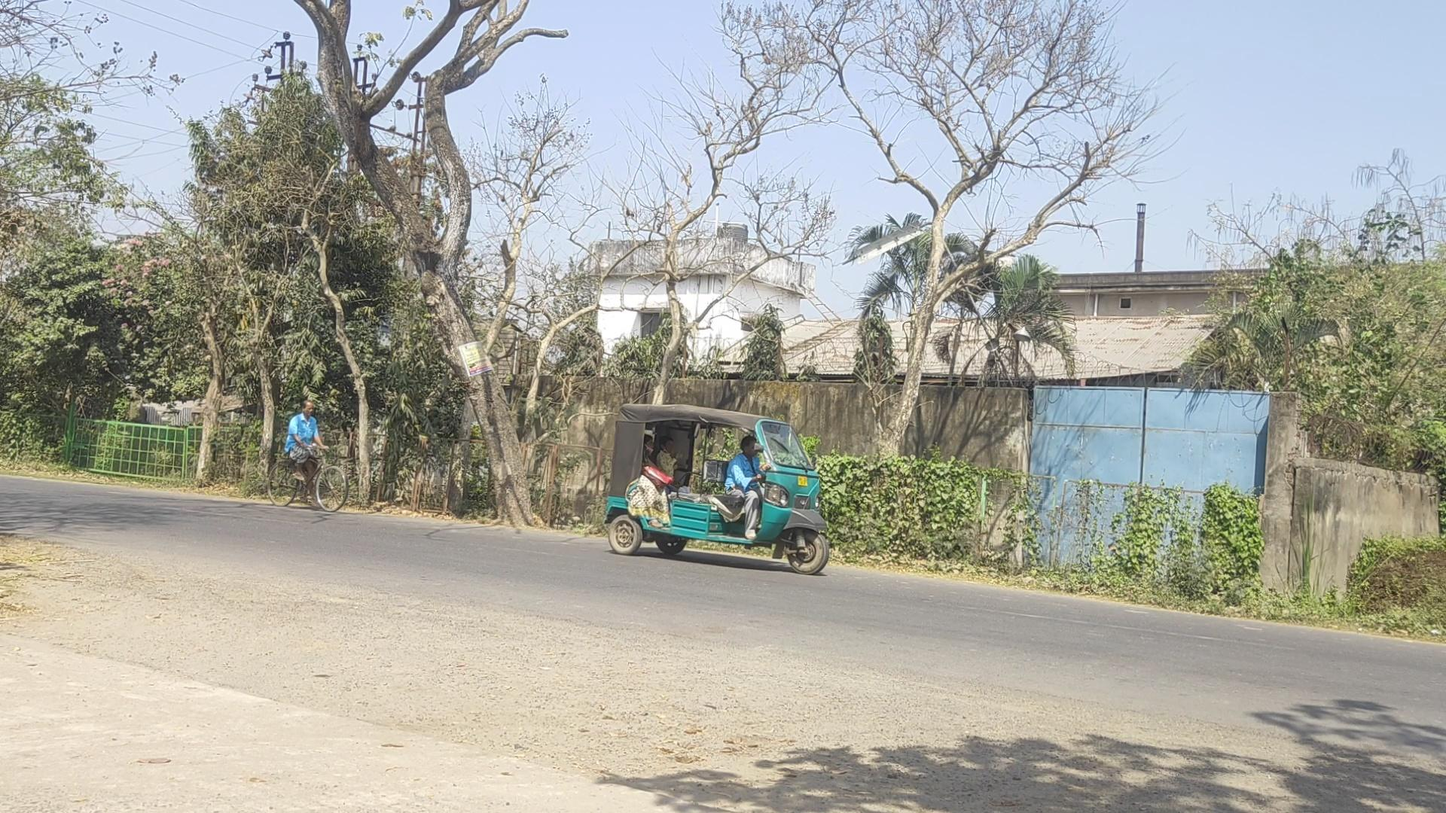Auto: (606, 403, 831, 574)
bike: (267, 400, 349, 513)
